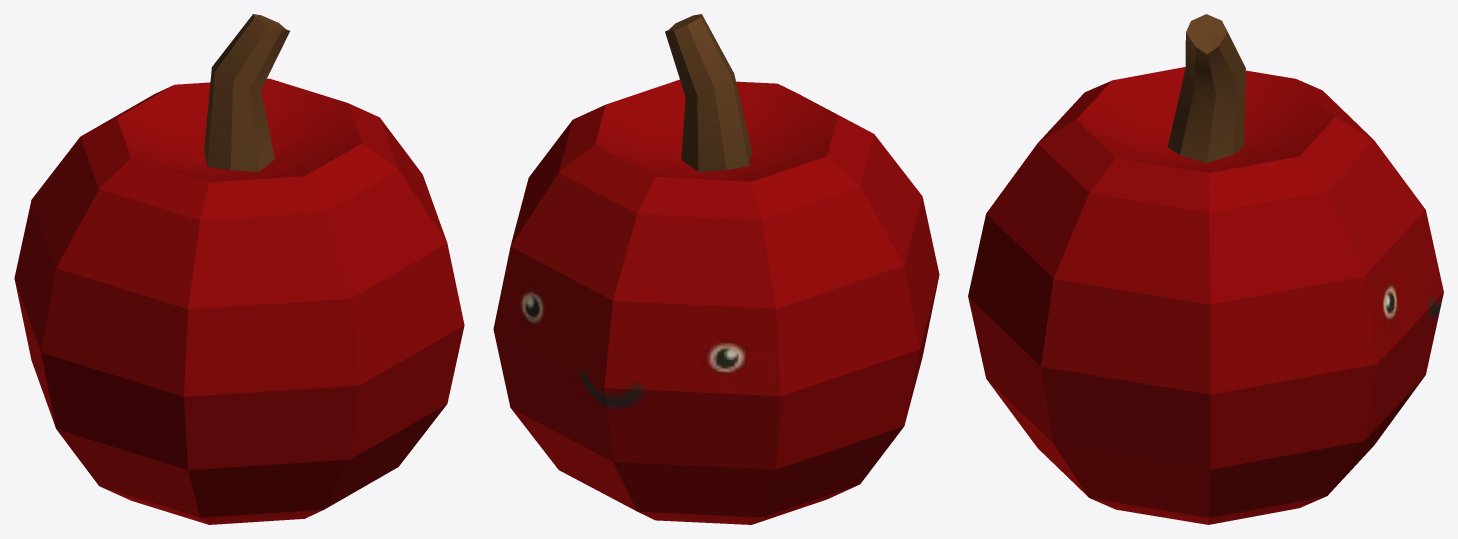
Rendered from appleHead.glb.
3 views of the same model, side by side, from view 1: azimuth 30°, elevation 25°; view 2: azimuth 150°, elevation 25°; view 3: azimuth 270°, elevation 25° (orthographic). The views are drawn at different scales.
Parts seen in each view (by area): view 1: appleHead; view 2: appleHead; view 3: appleHead.
Part boxes in pixels (x1,y1,x2,y2): appleHead: [14, 14, 464, 524]; appleHead: [493, 14, 939, 524]; appleHead: [968, 14, 1443, 524].
Size of the model in its own units: 0.2621 by 0.2865 by 0.2621.
1 material, 1 textured.
